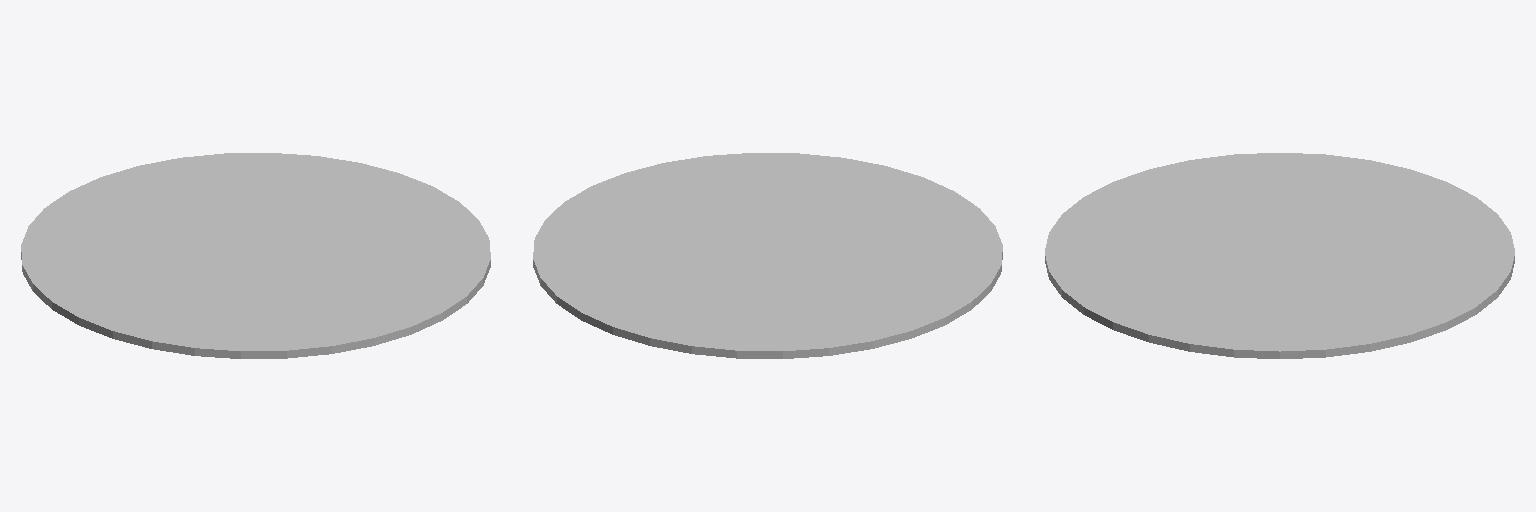
The model's file is arena.obj.
The picture shows the model from 3 angles: view 1: azimuth 30°, elevation 25°; view 2: azimuth 150°, elevation 25°; view 3: azimuth 270°, elevation 25°; orthographic projection.
Visible parts, largest first — view 1: Cylinder; view 2: Cylinder; view 3: Cylinder.
Boxes of the visible parts, <box> form: Cylinder: <box>21,153,490,358</box>; Cylinder: <box>533,153,1002,358</box>; Cylinder: <box>1045,153,1514,358</box>.
Size of the model in its own units: 11.08 by 0.2055 by 11.08.